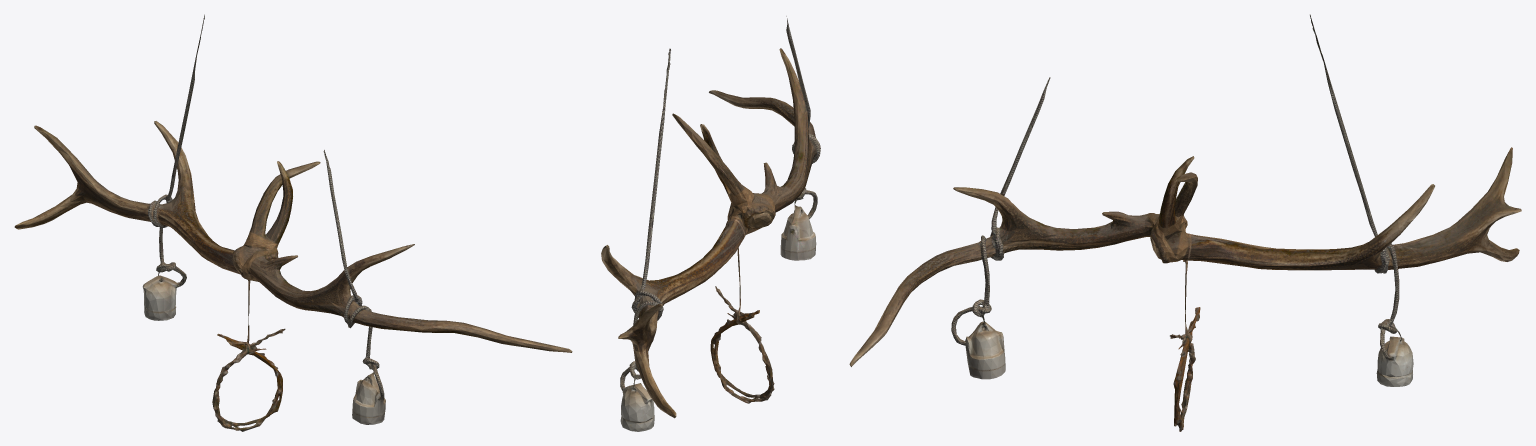
The picture shows the model from 3 angles, left to right: view 1: azimuth 30°, elevation 25°; view 2: azimuth 150°, elevation 25°; view 3: azimuth 270°, elevation 25°; orthographic projection. The views are drawn at different scales.
Visible parts, largest first — view 1: Geweihlampe_6k_0.5k; view 2: Geweihlampe_6k_0.5k; view 3: Geweihlampe_6k_0.5k.
Part boxes in pixels (bbox=[...]): Geweihlampe_6k_0.5k: bbox=[14, 14, 572, 431]; Geweihlampe_6k_0.5k: bbox=[601, 16, 820, 431]; Geweihlampe_6k_0.5k: bbox=[849, 14, 1521, 431].
Size of the model in its own units: 0.4546 by 0.6131 by 0.8846.
Materials: 1 (1 with a texture image).
